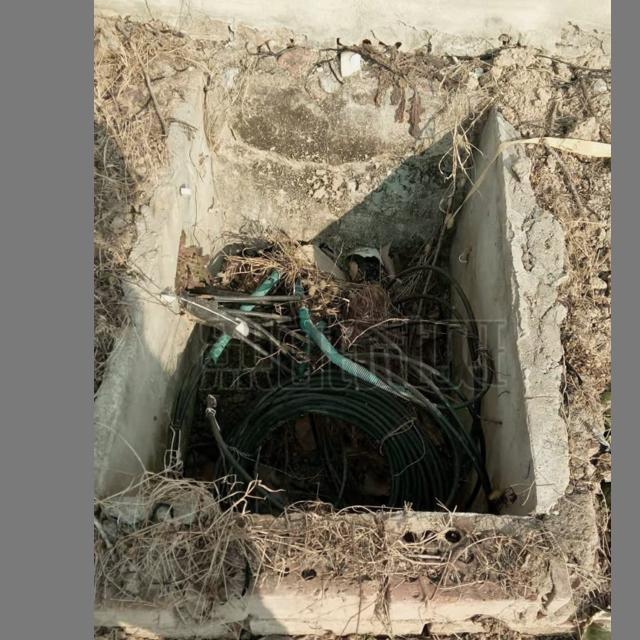lose: (94, 76, 539, 521)
